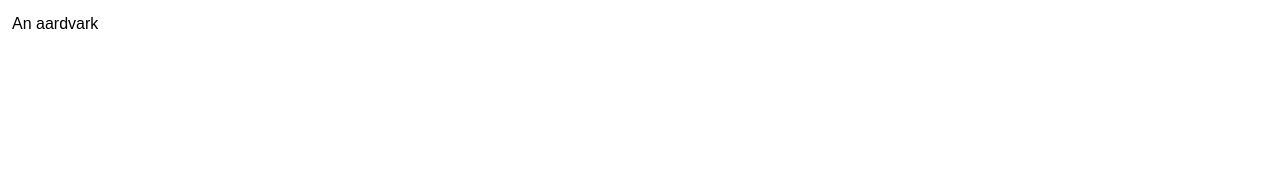
Test: SearchView — the search bar is not something it finds › counts the match in the content and not the case toggle's "Aa" label
Press f
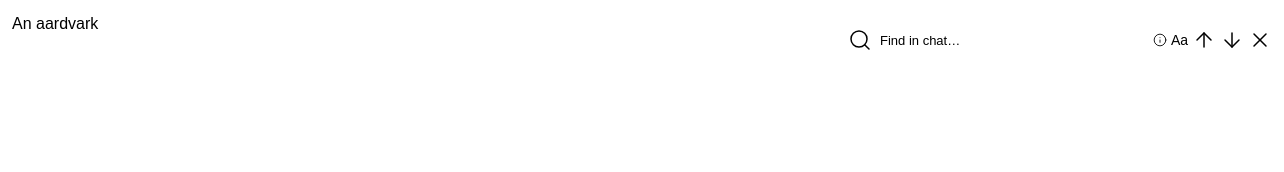
Type "aa" into the field with placeholder "Find in chat…" at [1012, 40], box [876, 24, 1149, 56]
Wait 400 ms
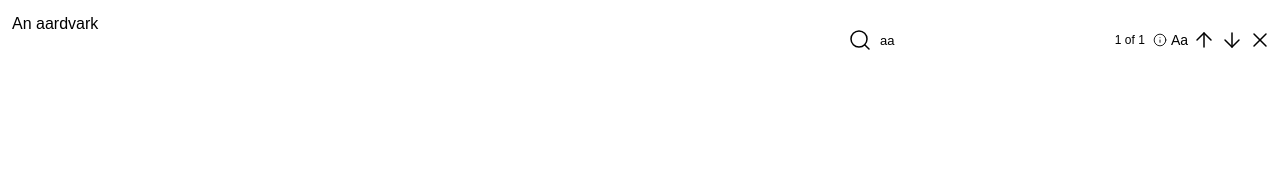
Expected: the text "Aa" is shown, [1171, 30, 1188, 50]
Expected: the text "1 of 1" is shown, [1115, 33, 1145, 47]
